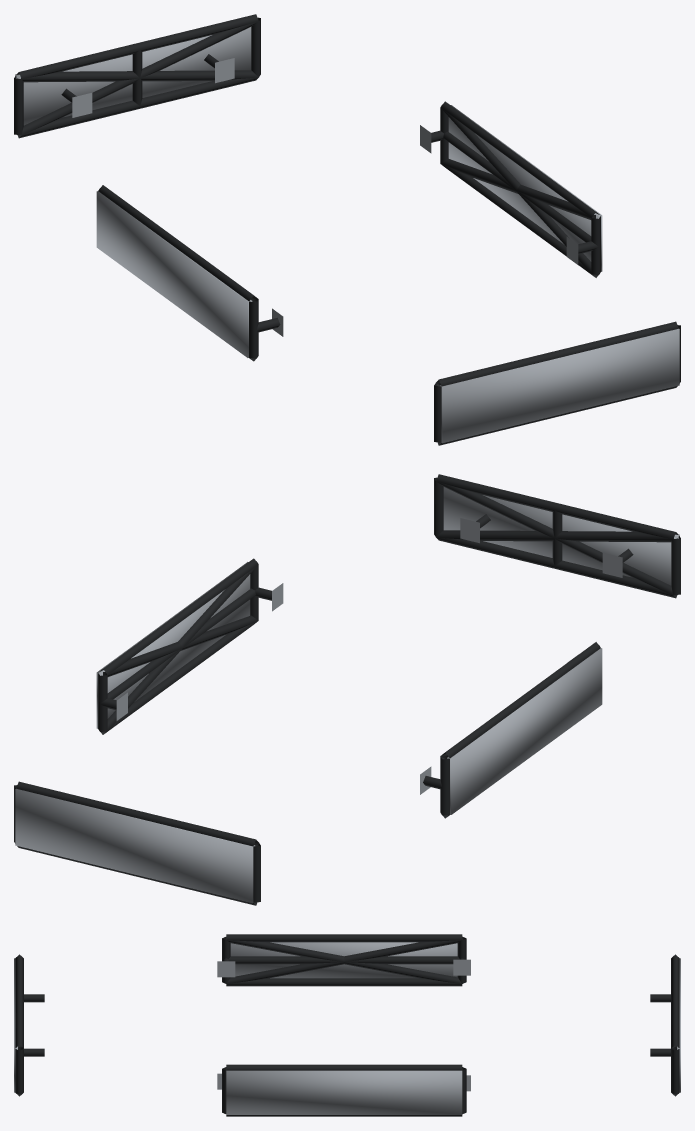
File: ottavo_areia_protecao.glb
3 renders of one model, top to bottom at view 1: azimuth 30°, elevation 25°; view 2: azimuth 150°, elevation 25°; view 3: azimuth 270°, elevation 25°, orthographic. The views are drawn at different scales.
Visible parts, largest first — view 1: Protection_front_Level3_Details, Protection_left_Level3_Details, Protection_rear_Level1_Details, Protection_rear_Level3_Details, Protection_right_Level1_Details, Protection_rear_Level2_Details, Protection_right_Level2_Details, Protection_right_Level3_Details, Protection_front_Level1_Details, Protection_left_Level1_Details; view 2: Protection_rear_Level3_Details, Protection_left_Level3_Details, Protection_front_Level1_Details, Protection_front_Level3_Details, Protection_right_Level1_Details, Protection_front_Level2_Details, Protection_right_Level2_Details, Protection_right_Level3_Details, Protection_rear_Level1_Details, Protection_left_Level1_Details; view 3: Protection_right_Level3_Details, Protection_left_Level1_Details, Protection_left_Level2_Details, Protection_left_Level3_Details, Protection_right_Level1_Details, Protection_rear_Level1_Details, Protection_front_Level1_Details.
Part boxes in pixels (box(x1,y1,x2,y2)): Protection_front_Level3_Details: box(439, 328, 679, 443); Protection_left_Level3_Details: box(96, 191, 252, 357); Protection_rear_Level1_Details: box(14, 14, 260, 138); Protection_rear_Level3_Details: box(15, 27, 251, 125); Protection_right_Level1_Details: box(420, 101, 600, 277); Protection_rear_Level2_Details: box(16, 21, 258, 137); Protection_right_Level2_Details: box(440, 108, 599, 277); Protection_right_Level3_Details: box(448, 105, 602, 271); Protection_front_Level1_Details: box(434, 321, 680, 445); Protection_left_Level1_Details: box(98, 185, 283, 361); Protection_rear_Level3_Details: box(15, 788, 255, 903); Protection_left_Level3_Details: box(447, 648, 602, 814); Protection_front_Level1_Details: box(434, 474, 680, 598); Protection_front_Level3_Details: box(443, 487, 679, 585); Protection_right_Level1_Details: box(98, 558, 283, 734); Protection_front_Level2_Details: box(436, 481, 678, 597); Protection_right_Level2_Details: box(98, 565, 258, 734); Protection_right_Level3_Details: box(96, 562, 250, 728); Protection_rear_Level1_Details: box(14, 781, 260, 905); Protection_left_Level1_Details: box(420, 642, 600, 818); Protection_right_Level3_Details: box(226, 1070, 462, 1114); Protection_left_Level1_Details: box(217, 934, 470, 986); Protection_left_Level2_Details: box(226, 938, 462, 983); Protection_left_Level3_Details: box(230, 942, 457, 978); Protection_right_Level1_Details: box(217, 1064, 470, 1116); Protection_rear_Level1_Details: box(650, 954, 679, 1096); Protection_front_Level1_Details: box(15, 954, 44, 1096).
Size of the model in its own units: 1.98 by 0.354 by 4.13.
1 material, 1 textured.
